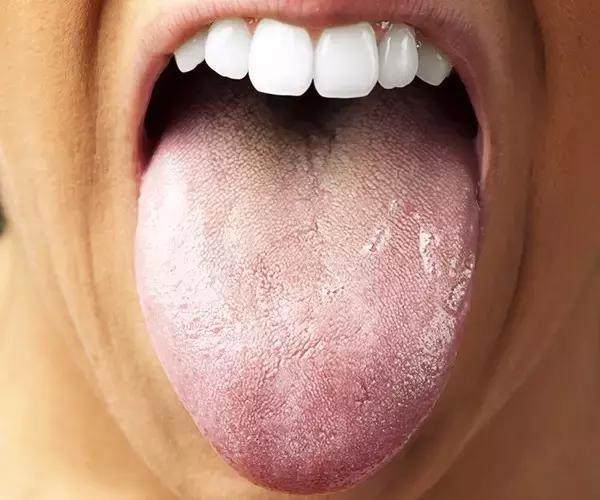baitaishe: (134, 96, 480, 494)
